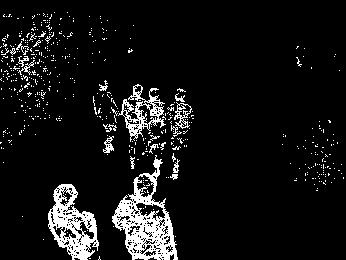person: (108, 172, 180, 259), (47, 182, 101, 260), (166, 87, 194, 183), (120, 83, 147, 171), (143, 85, 168, 180), (92, 78, 120, 156)
